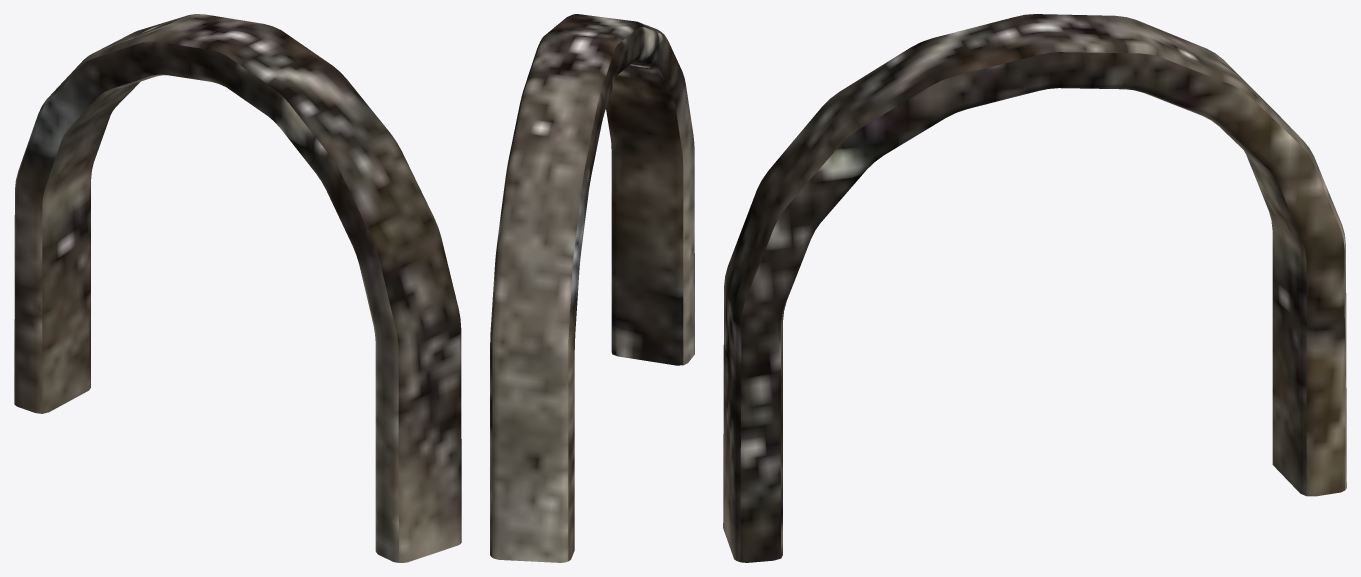
The model's file is Single Wall.fbx.
The picture shows the model from 3 angles, left to right: view 1: azimuth 30°, elevation 25°; view 2: azimuth 150°, elevation 25°; view 3: azimuth 270°, elevation 25°; orthographic projection. The views are drawn at different scales.
Visible parts, largest first — view 1: Circle.011; view 2: Circle.011; view 3: Circle.011.
Boxes of the visible parts, bbox=[...] form: Circle.011: bbox=[14, 14, 461, 562]; Circle.011: bbox=[490, 14, 694, 562]; Circle.011: bbox=[723, 14, 1346, 562].
Size of the model in its own units: 58.22 by 122 by 142.
